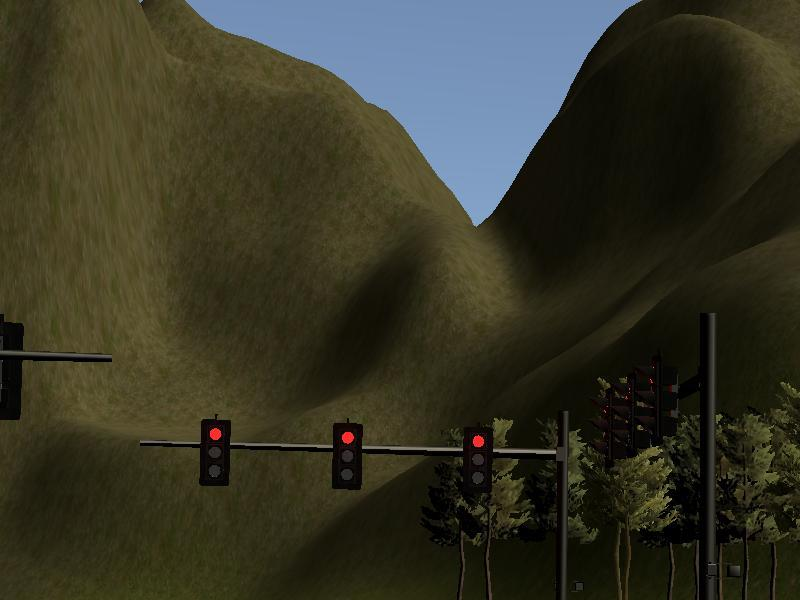Red: (201, 419, 229, 483), (465, 430, 492, 492), (335, 423, 360, 488)
